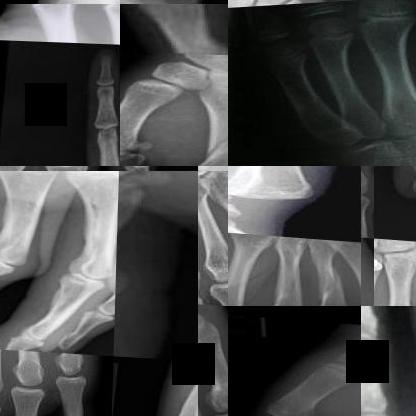fracture: (79, 189, 117, 251), (189, 108, 227, 165), (269, 266, 310, 302), (309, 259, 350, 294), (201, 370, 227, 415), (375, 253, 392, 305)
